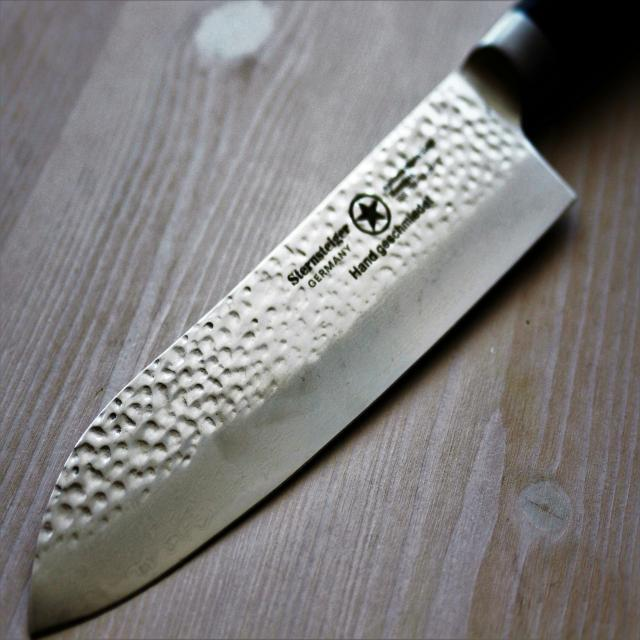knife: (25, 1, 639, 640)
